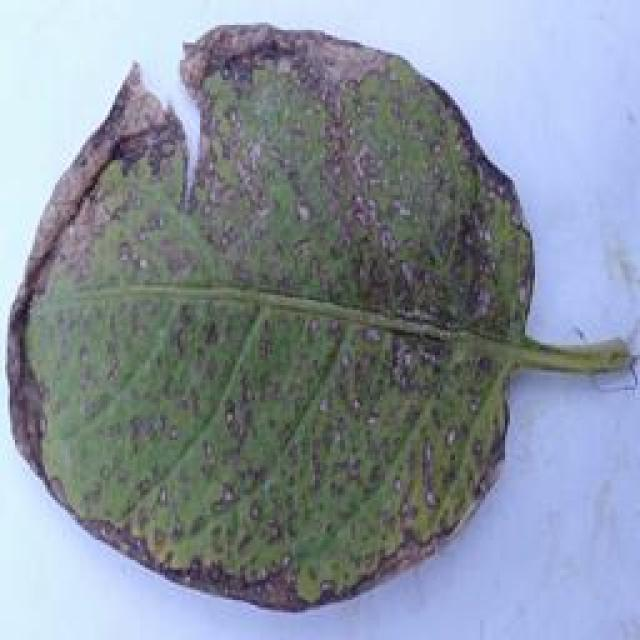Potato_Early_Blight: (4, 2, 632, 629)
